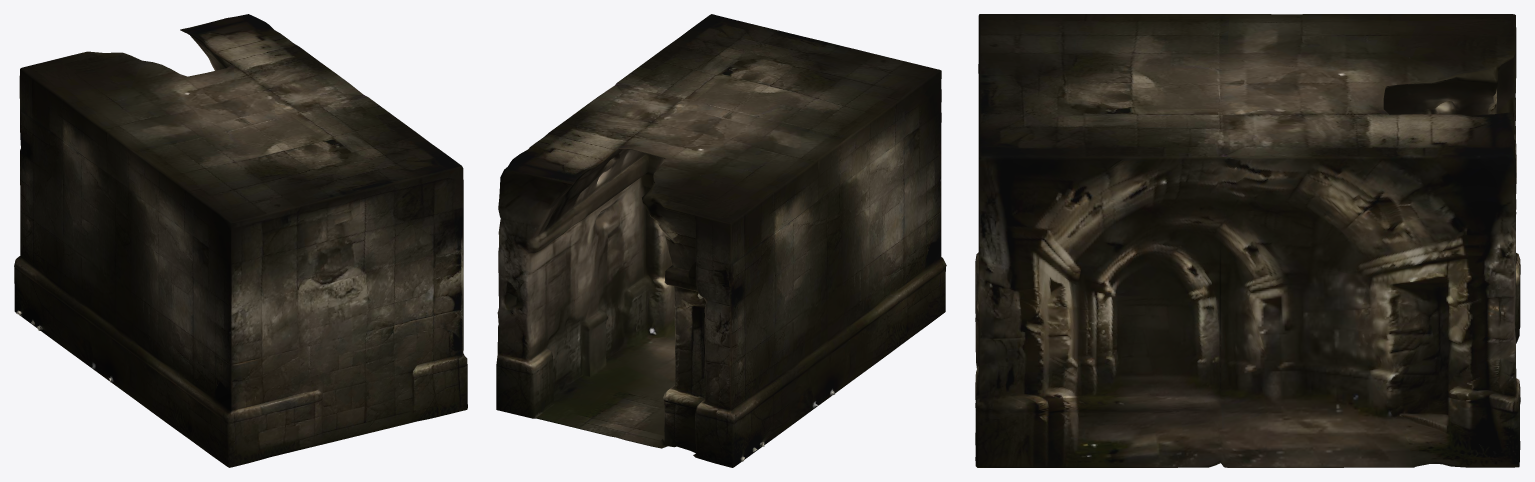
File: tunnel3.fbx
3 views of the same model, side by side, from view 1: azimuth 30°, elevation 25°; view 2: azimuth 150°, elevation 25°; view 3: azimuth 270°, elevation 25° (orthographic). The views are drawn at different scales.
Parts seen in each view (by area): view 1: tripo_node_847ca32a; view 2: tripo_node_847ca32a; view 3: tripo_node_847ca32a.
Boxes of the visible parts, box(x1,y1,x2,y2) form: tripo_node_847ca32a: box(14, 14, 467, 467); tripo_node_847ca32a: box(496, 14, 946, 467); tripo_node_847ca32a: box(975, 14, 1520, 467).
Size of the model in its own units: 0.6569 by 0.6273 by 1.
Materials: 1 (1 with a texture image).
